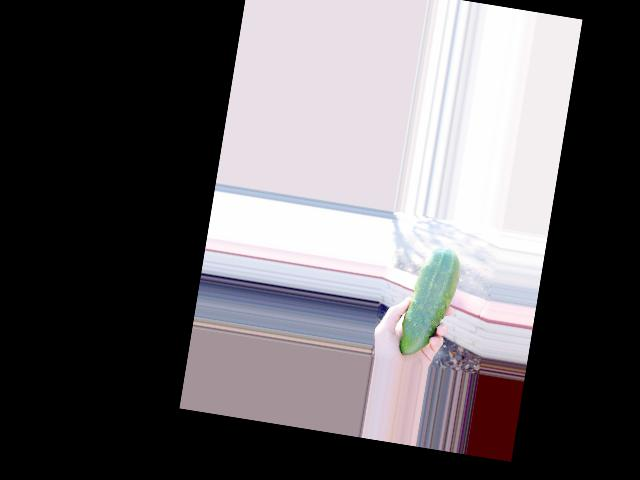cucumber: (398, 243, 464, 361)
